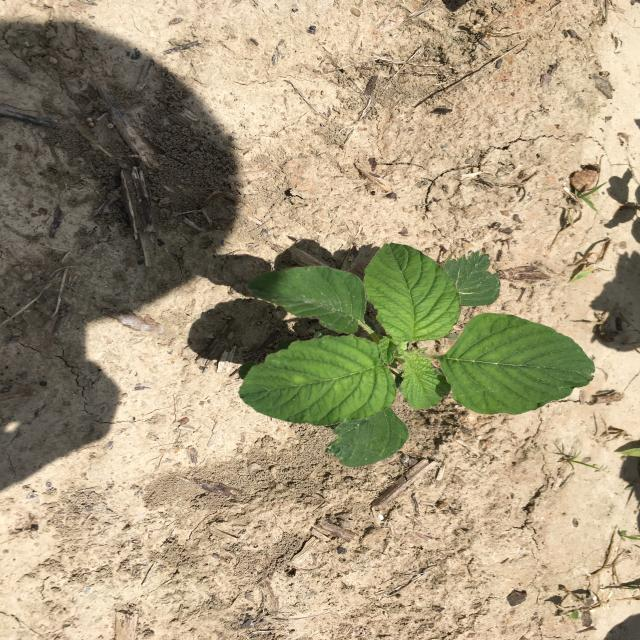PalmerAmaranth: (238, 242, 596, 468)
